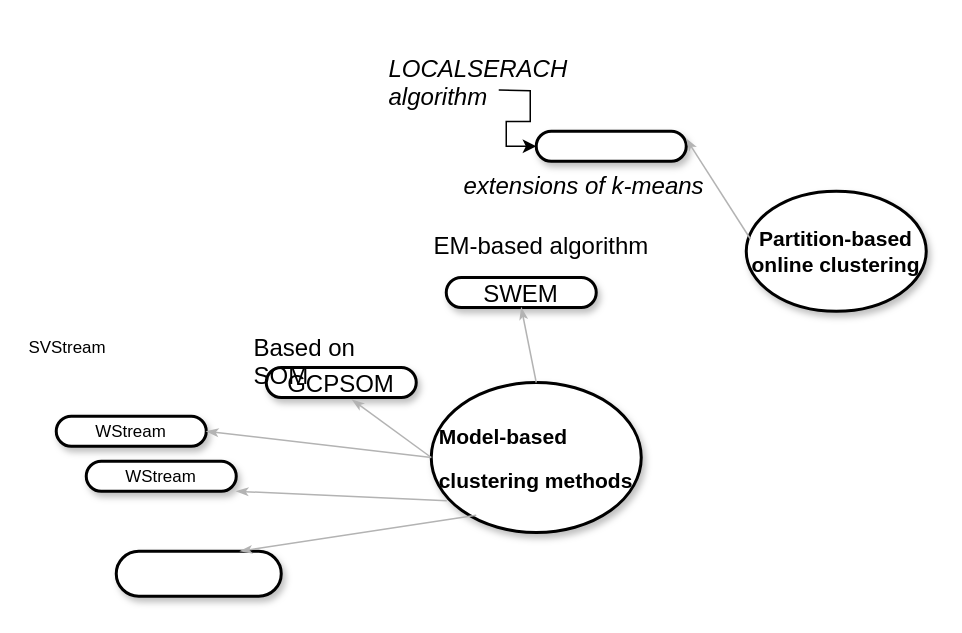
Image size: 962x633. Some labels were removed from this diagram. Here are the shapes that lost their labels. From the top down, the centre of each, then its label:
point (612, 147): STREAM
point (199, 575): CluDistream
